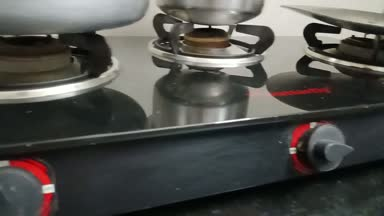flame_gas_off: (172, 21, 355, 181)
